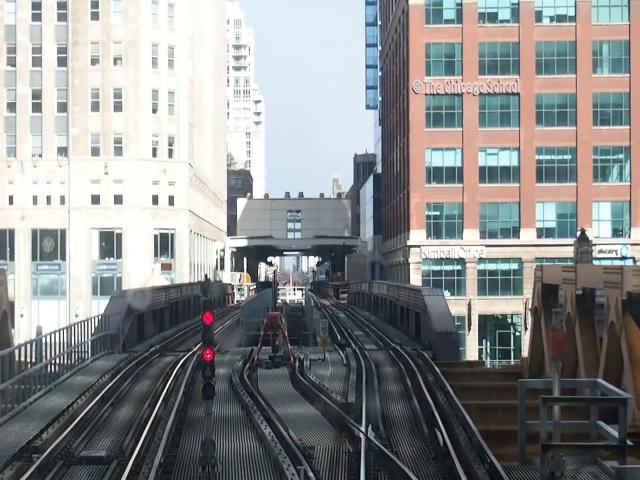signal light: (201, 298, 219, 401)
